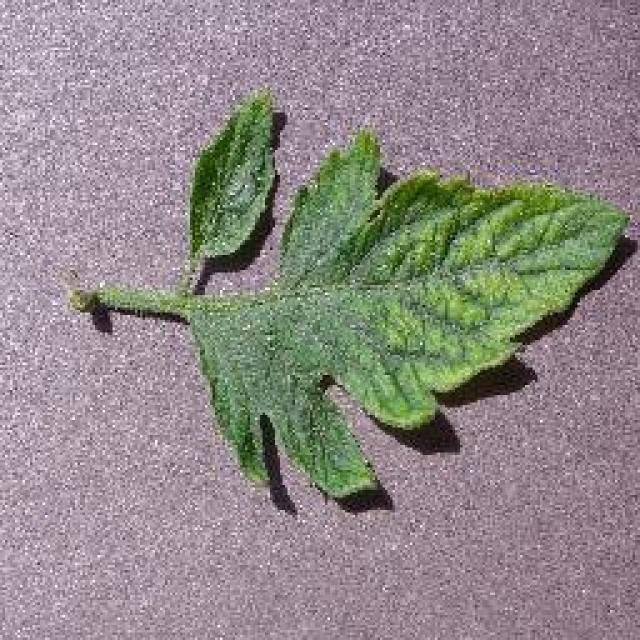Tomato spider mites leaf: (182, 89, 640, 506)
